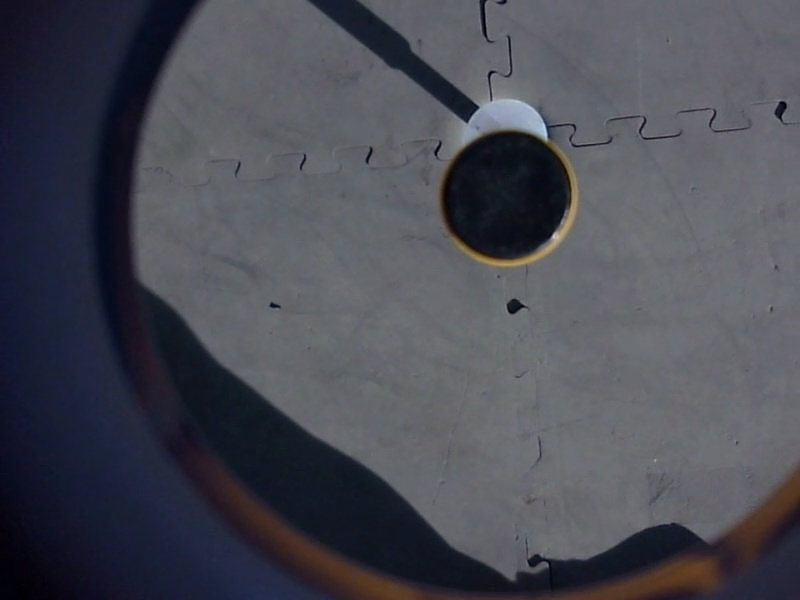tip: (430, 125, 588, 273)
